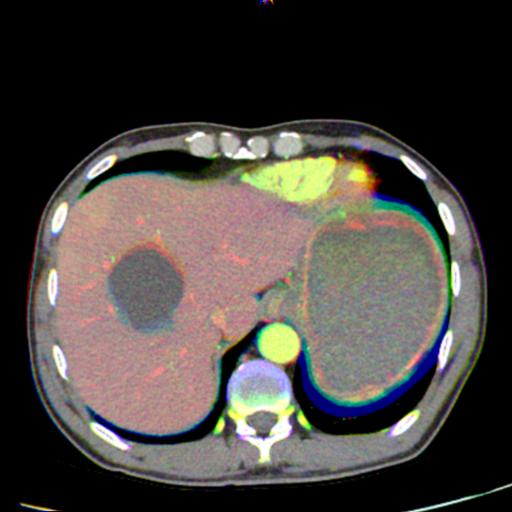Cyst: (108, 247, 183, 333)
